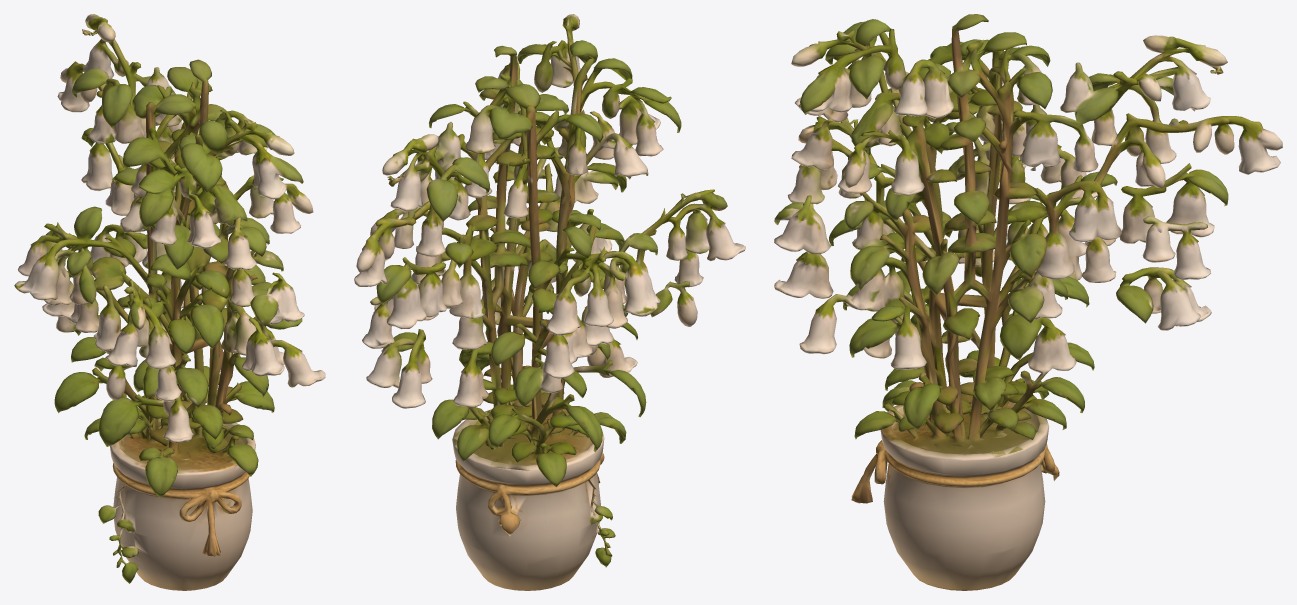
File: flower_tow.glb
3 views of the same model, side by side, from view 1: azimuth 30°, elevation 25°; view 2: azimuth 150°, elevation 25°; view 3: azimuth 270°, elevation 25° (orthographic). The views are drawn at different scales.
Visible parts, largest first — view 1: node_0; view 2: node_0; view 3: node_0.
Part boxes in pixels (bbox=[...]): node_0: bbox=[14, 14, 325, 590]; node_0: bbox=[354, 14, 745, 590]; node_0: bbox=[774, 14, 1282, 590].
Size of the model in its own units: 0.4754 by 1.01 by 0.8266.
Materials: 1 (1 with a texture image).
